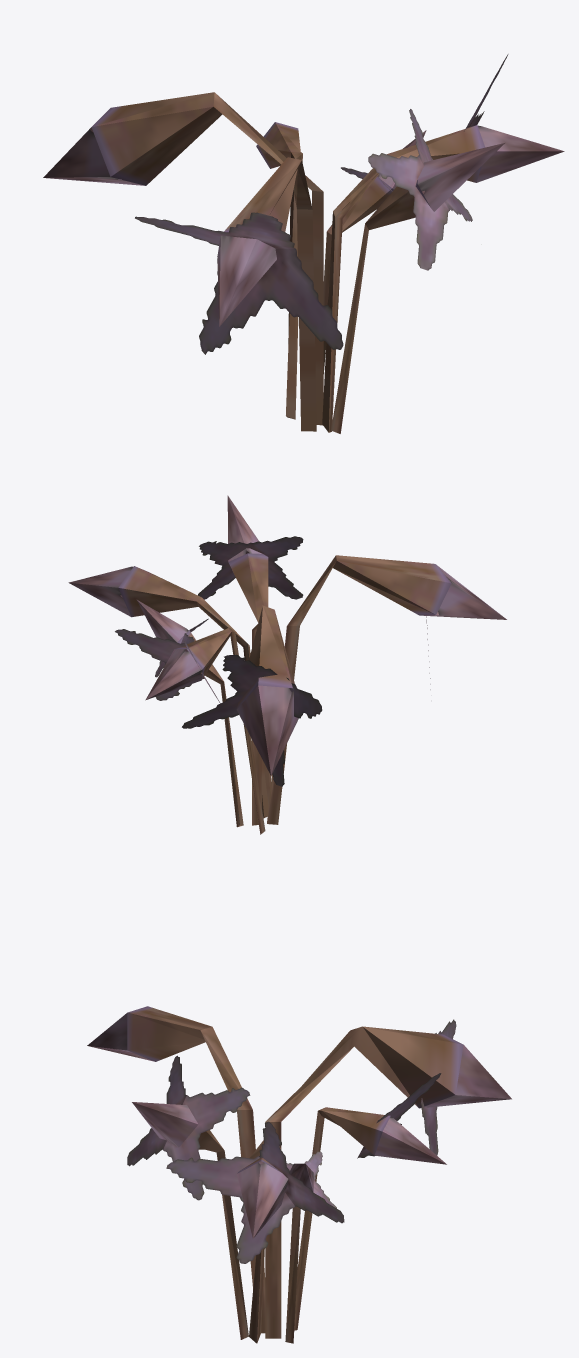
The model's file is C1SNTVLT.obj.
The picture shows the model from 3 angles, top to bottom: view 1: azimuth 30°, elevation 25°; view 2: azimuth 150°, elevation 25°; view 3: azimuth 270°, elevation 25°; orthographic projection. The views are drawn at different scales.
Parts seen in each view (by area): view 1: Node 0; view 2: Node 0; view 3: Node 0.
Boxes of the visible parts, x1,y1,x2,y2 form: Node 0: [43, 54, 564, 433]; Node 0: [68, 495, 506, 834]; Node 0: [87, 1006, 511, 1343].
Size of the model in its own units: 1.41 by 0.96 by 1.36.
Materials: 1 (1 with a texture image).
